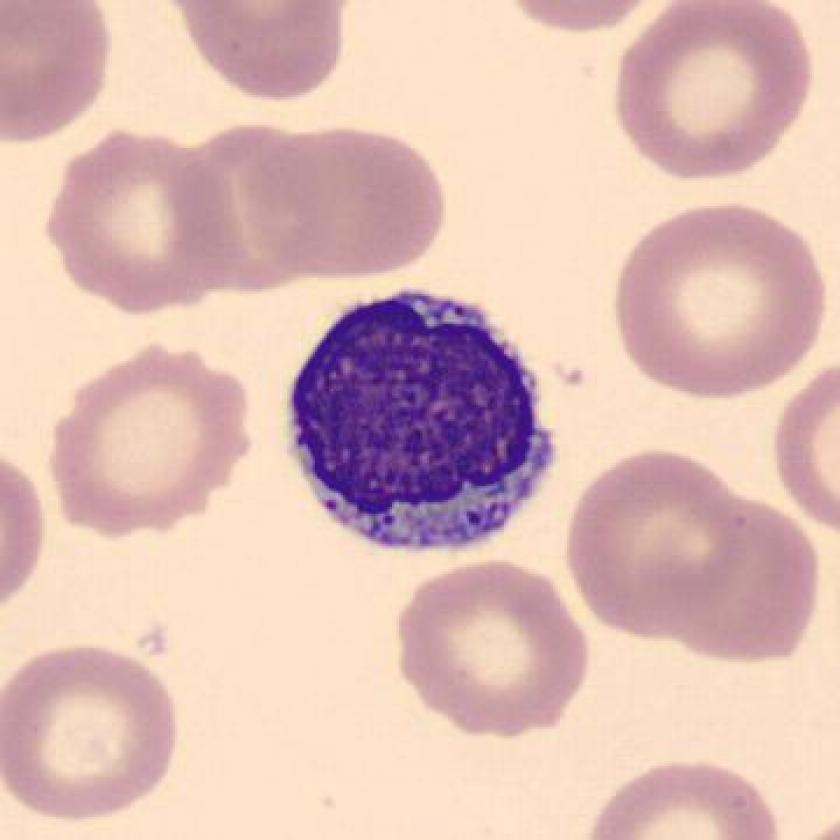lymphocyte: (274, 274, 575, 575)
